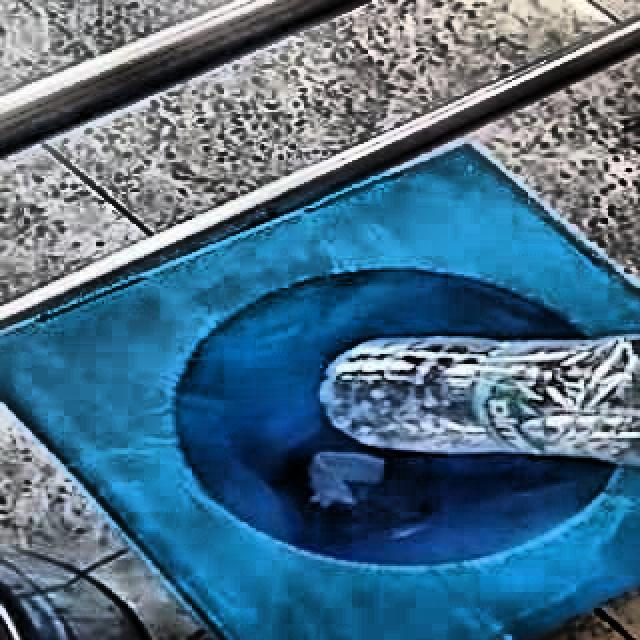plastic: (320, 336, 640, 467)
